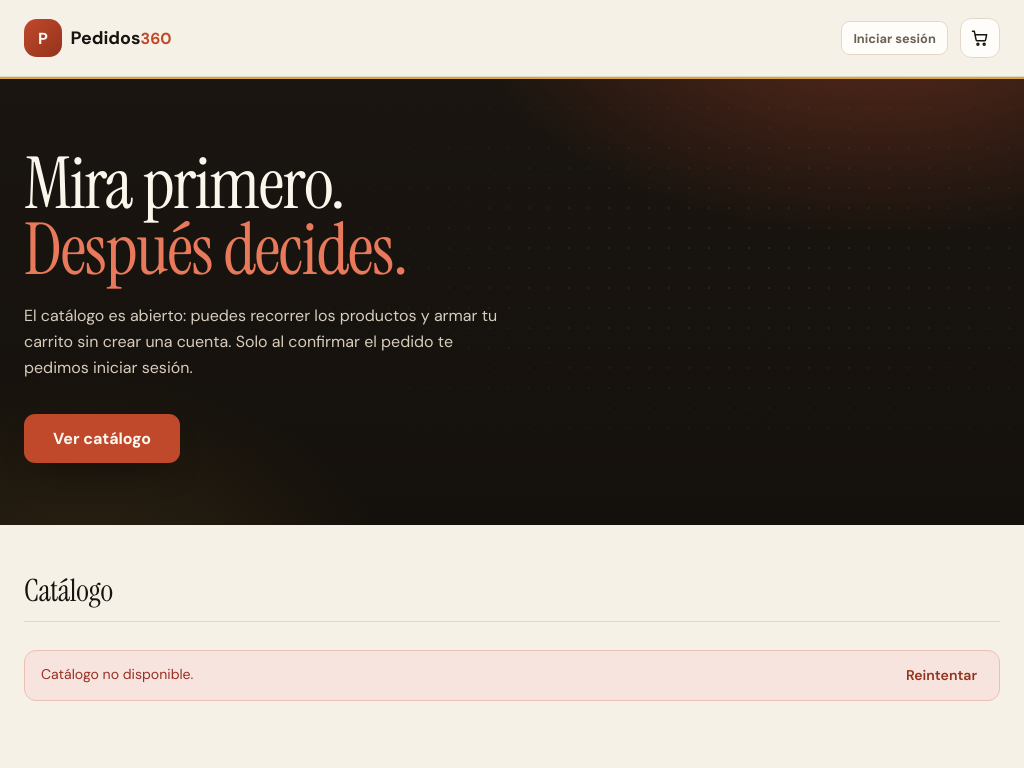
Test case: StorePage › explica el fallo y reintenta la carga
expect the text "Catálogo no disponible." is shown: met, box [41,665,193,683]
Click the button "Reintentar" at coordinates (942, 675), box [900,665,983,685]
(page scrolled)
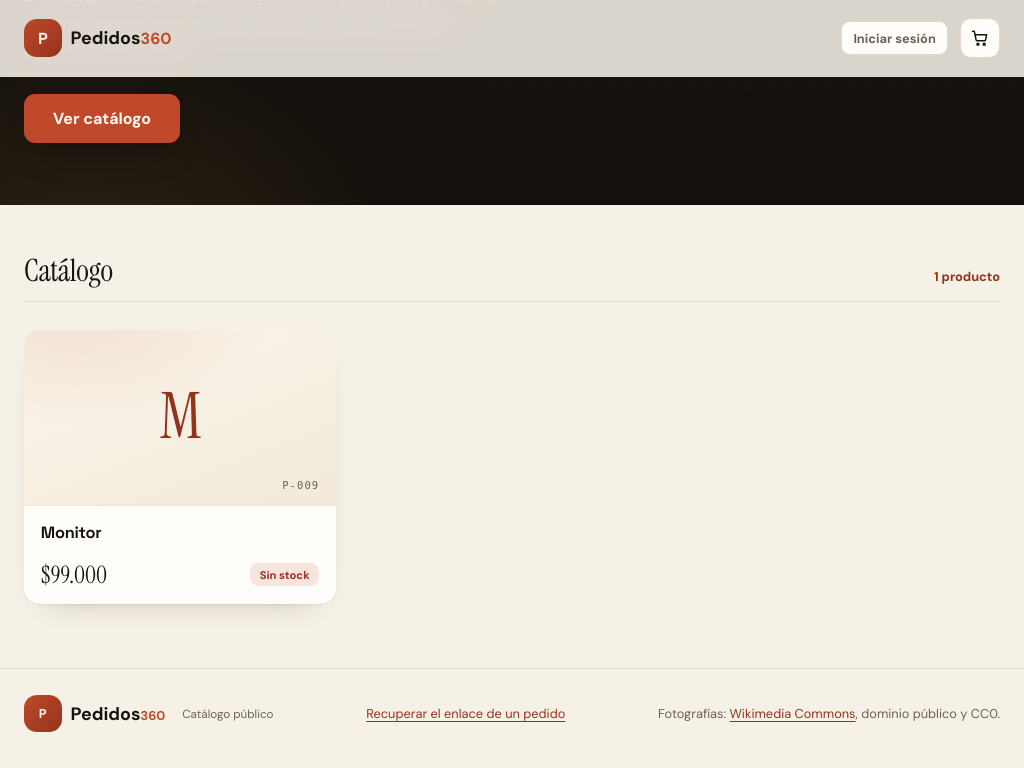
expect the heading "Monitor" is shown: met, box [41,522,101,542]
expect the text "Sin stock" is shown: met, box [250,563,319,586]
